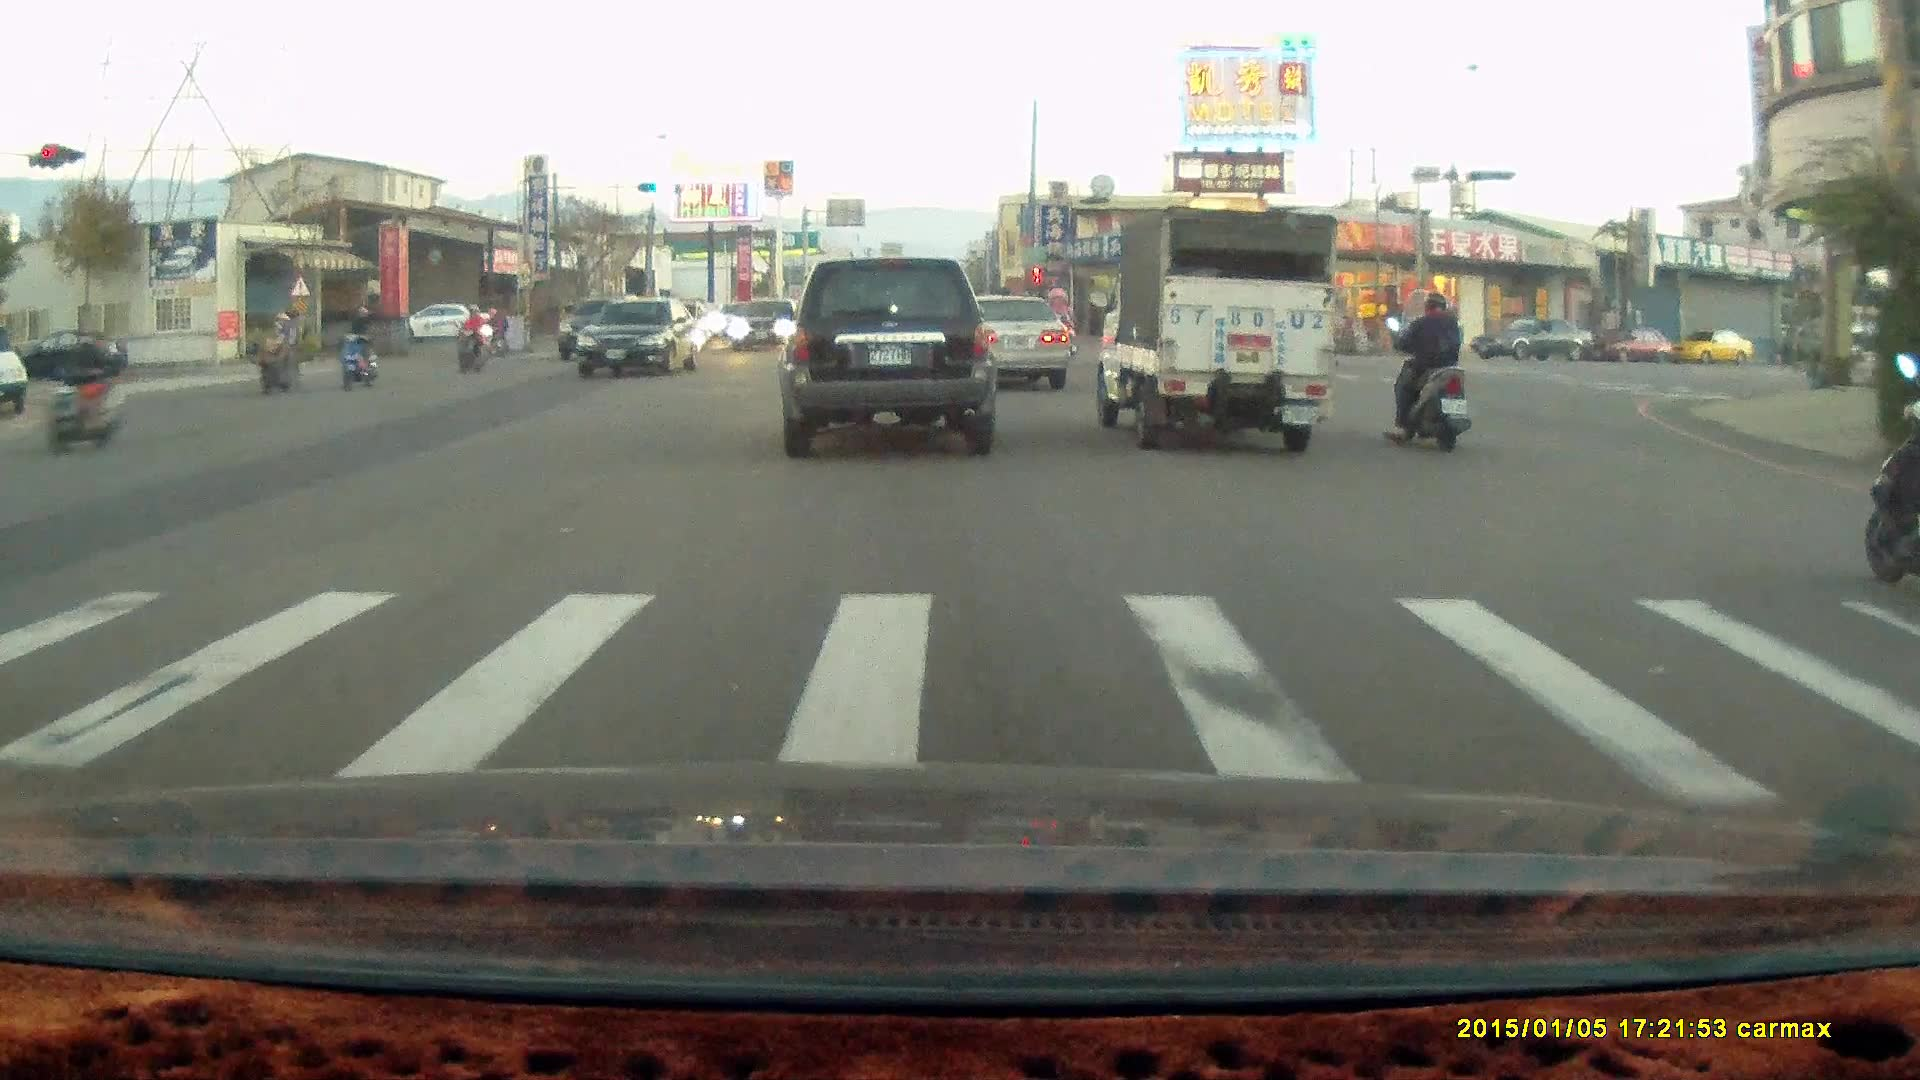rider: (1859, 352, 1920, 582), (1383, 291, 1467, 449), (35, 329, 127, 451), (250, 307, 301, 396), (339, 303, 381, 388), (456, 302, 490, 375)
vehicle: (1086, 205, 1339, 453), (775, 256, 994, 458), (950, 292, 1073, 391), (956, 294, 1074, 393), (575, 300, 707, 383), (1468, 313, 1595, 362), (729, 295, 801, 352), (410, 301, 492, 346), (1670, 328, 1757, 365), (1, 314, 31, 413), (1597, 327, 1676, 364)
